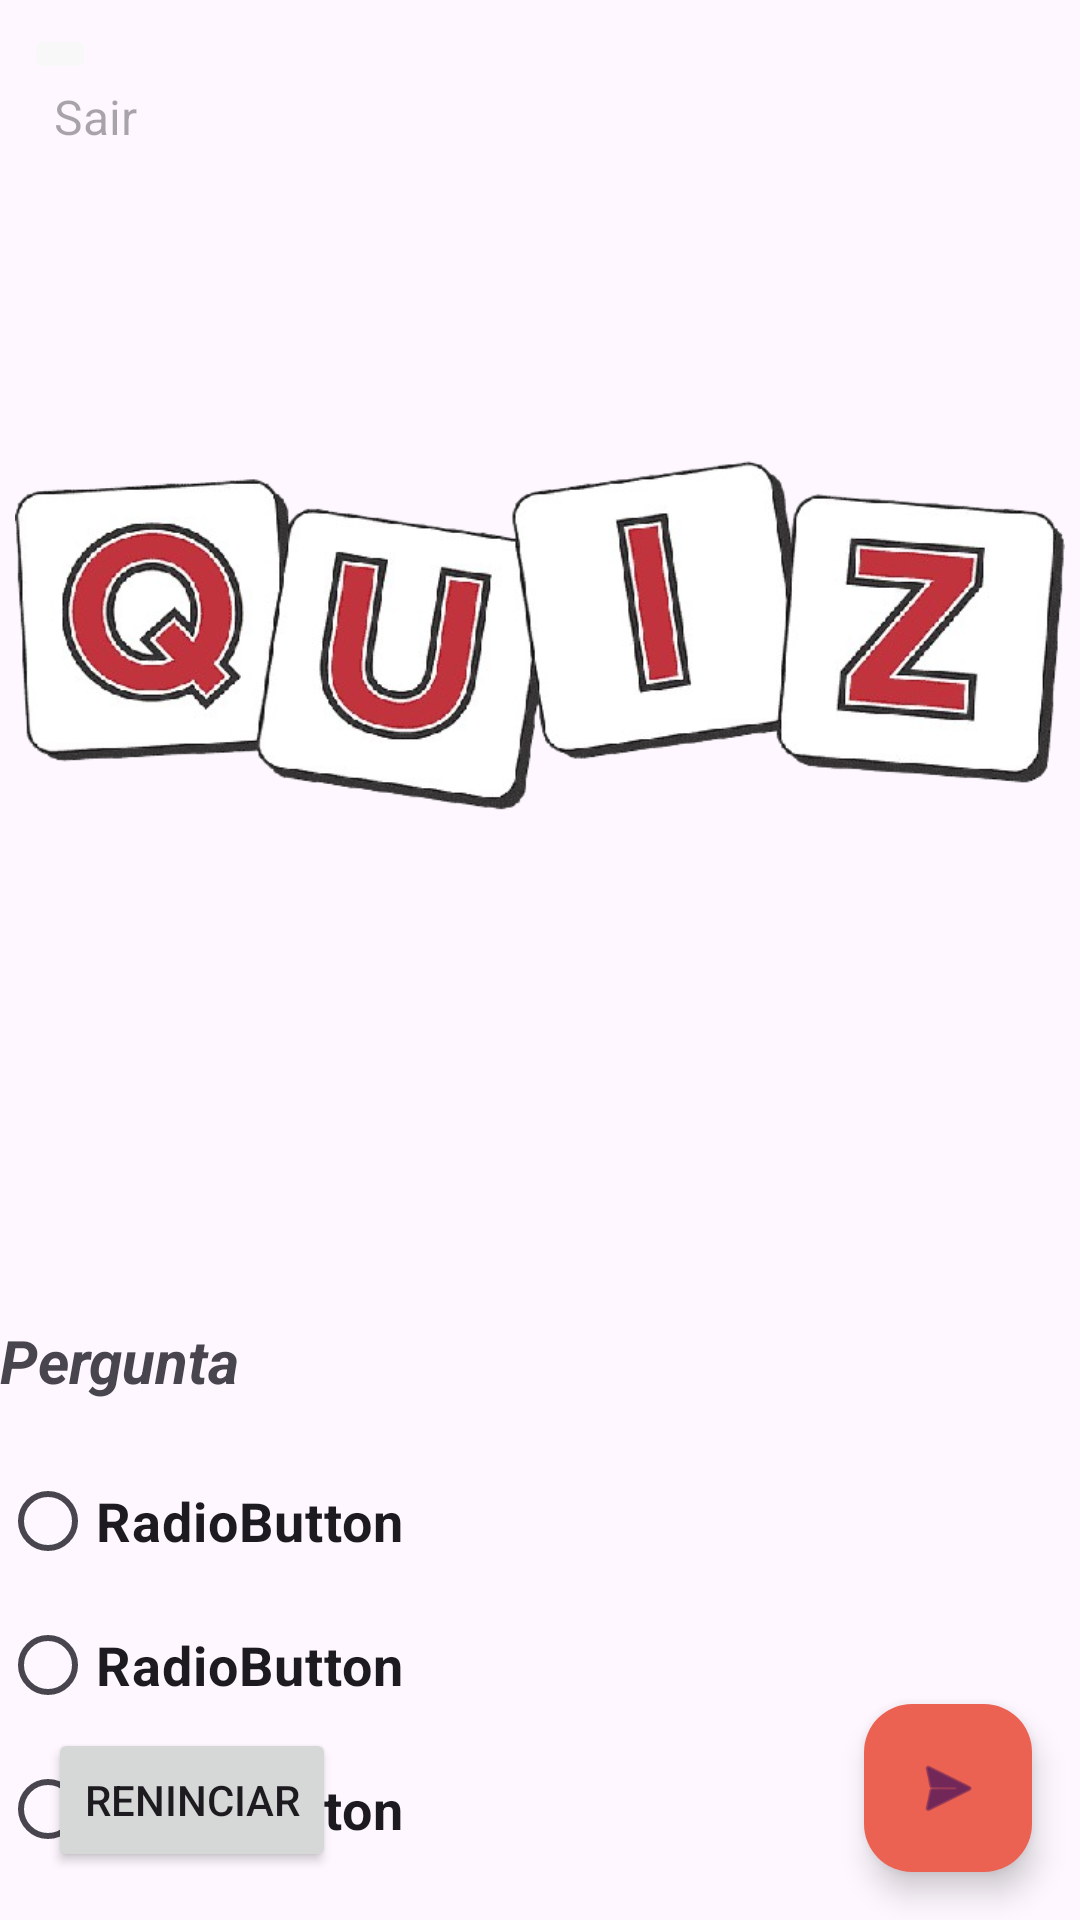

Screen size 1080x1920. Icon name, then its box in pixels as (x1, y1, x2, y2):
send: (864, 1704, 1032, 1872)
